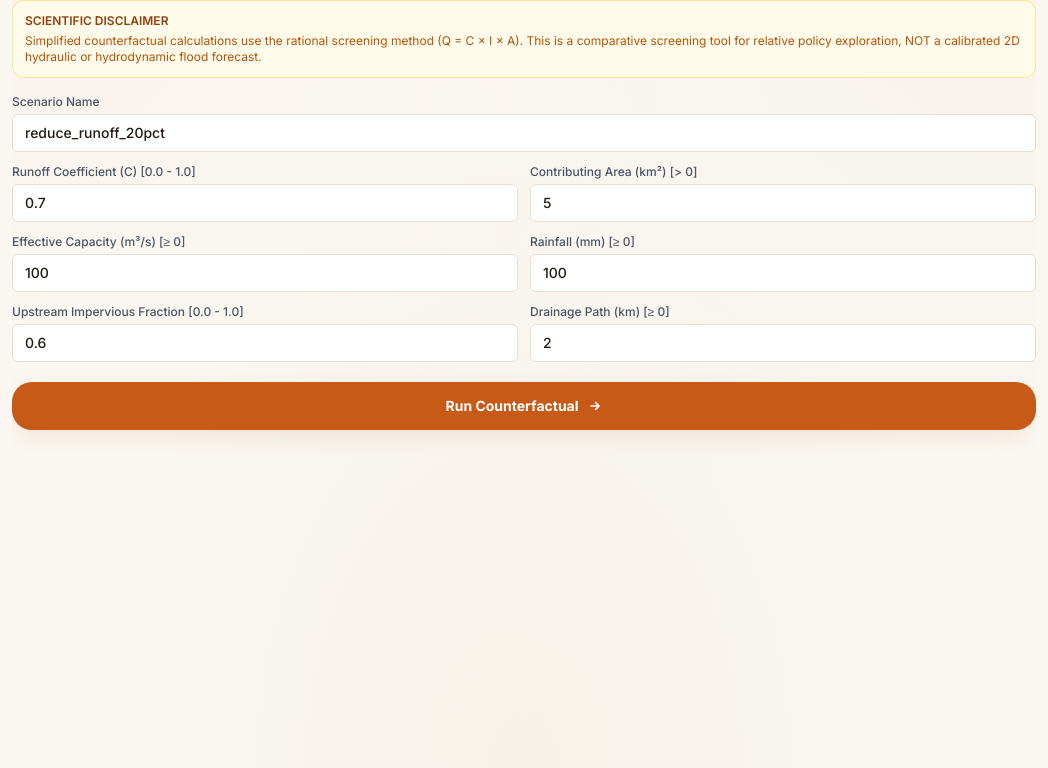
Scenario: CounterfactualForm › shows validation error when scenario name is cleared
The width and height of the screenshot is (1048, 768).
Clear the field labelled "Scenario Name": (524, 133) [12,114,1036,152]
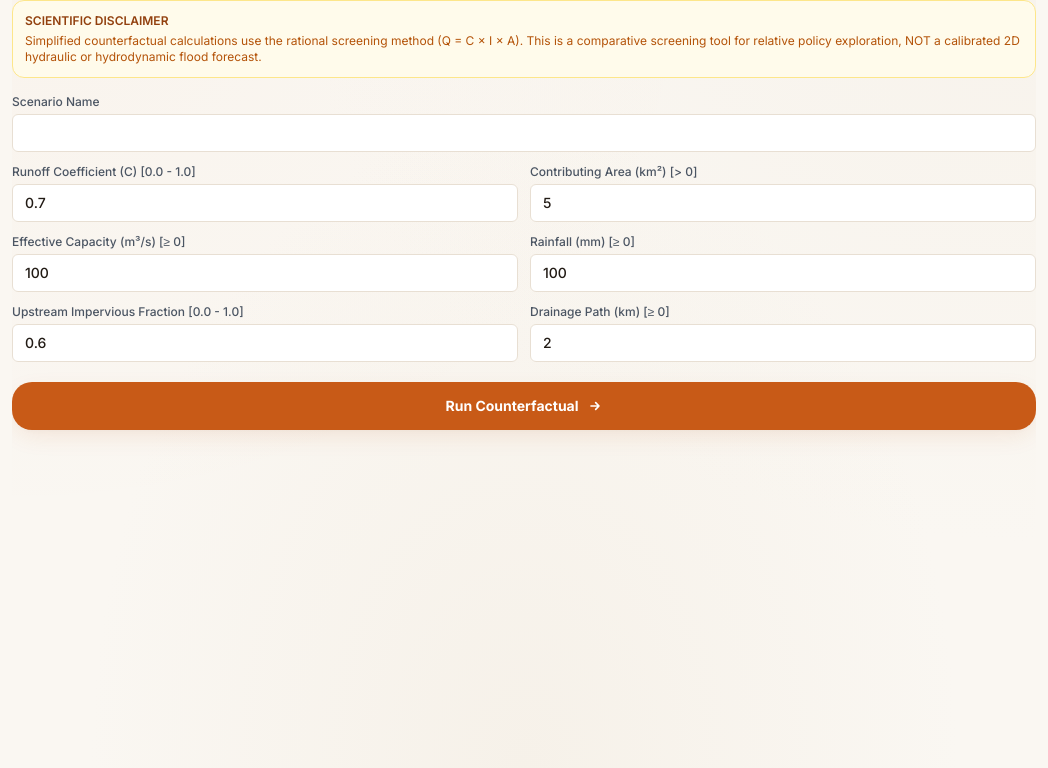
Click the button "Run Counterfactual": (524, 406) [12,382,1036,430]
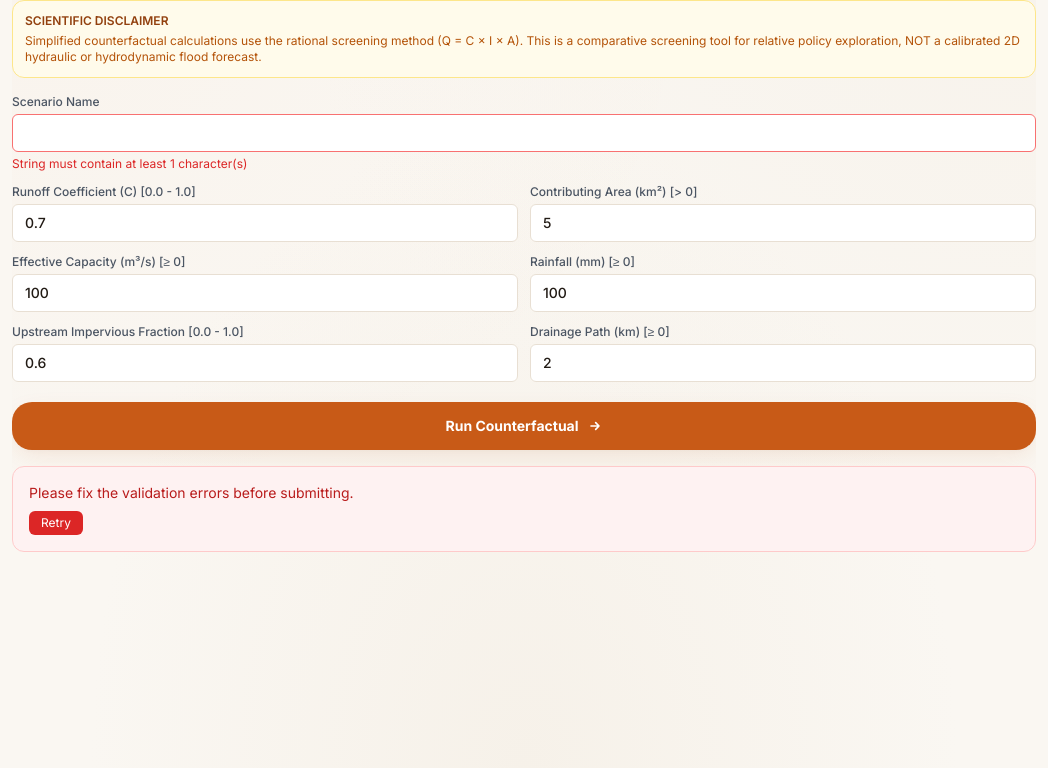
Result: the text "String must contain at least 1 character(s)" is shown at [12,156,247,171]
